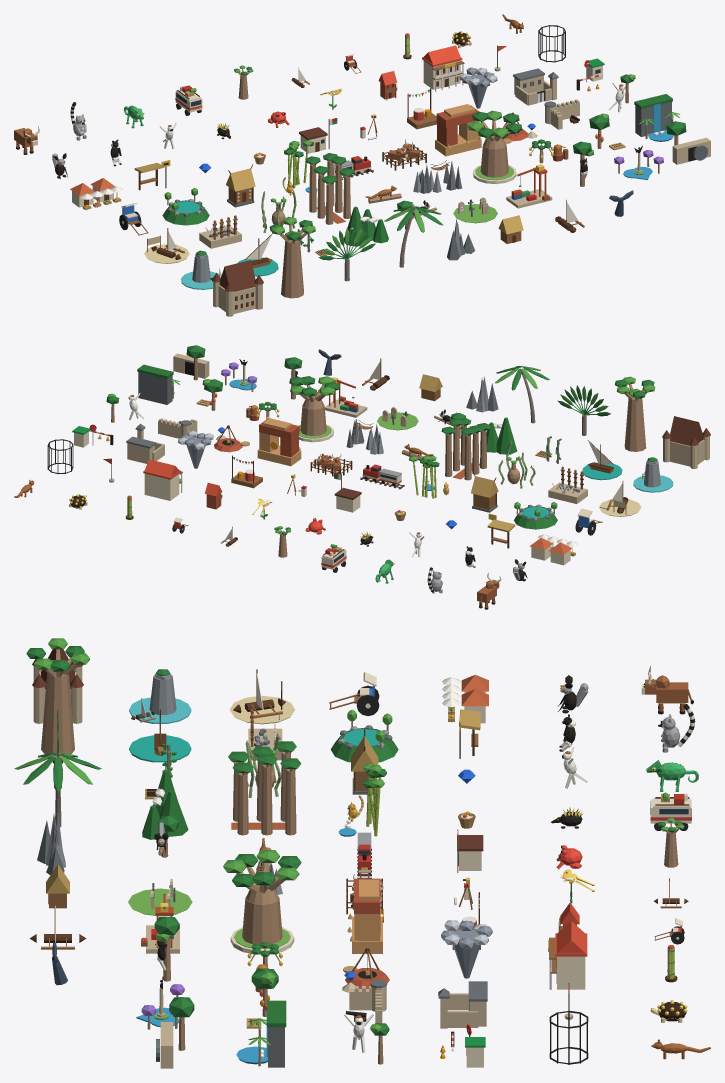
Rendered from tsena.glb.
The picture shows the model from 3 angles, top to bottom: view 1: azimuth 30°, elevation 25°; view 2: azimuth 150°, elevation 25°; view 3: azimuth 270°, elevation 25°; orthographic projection. The views are drawn at different scales.
Parts seen in each view (by area): view 1: baobab_alley, giant_baobab, rova, isalo_window, baobab, waterfall, hotel, prison, stone_gate, crater_lake, market, ravinala (+24 smaller); view 2: baobab_alley, giant_baobab, rova, isalo_window, baobab, hotel, waterfall, market, crater_lake, stone_gate, prison, ravinala (+27 smaller); view 3: giant_baobab, baobab_alley, baobab, isalo_window, hotel, waterfall, sugarloaf, prison, crater_lake, cyclone, rova, market (+28 smaller).
Part boxes in pixels (bbox=[...]): baobab_alley: bbox=[305, 153, 354, 224]; giant_baobab: bbox=[467, 110, 522, 184]; rova: bbox=[212, 260, 263, 316]; isalo_window: bbox=[435, 104, 481, 156]; baobab: bbox=[269, 216, 315, 298]; waterfall: bbox=[634, 94, 679, 141]; hotel: bbox=[422, 45, 464, 91]; prison: bbox=[513, 68, 558, 105]; stone_gate: bbox=[666, 121, 710, 164]; crater_lake: bbox=[162, 187, 209, 225]; market: bbox=[70, 178, 123, 209]; ravinala: bbox=[318, 227, 375, 281]; baobab_alley: bbox=[441, 418, 490, 480]; giant_baobab: bbox=[289, 376, 339, 442]; rova: bbox=[662, 416, 710, 468]; isalo_window: bbox=[257, 418, 301, 466]; baobab: bbox=[615, 376, 655, 451]; hotel: bbox=[143, 459, 182, 500]; waterfall: bbox=[137, 364, 180, 404]; market: bbox=[529, 534, 577, 565]; crater_lake: bbox=[514, 502, 557, 529]; stone_gate: bbox=[173, 345, 209, 380]; prison: bbox=[126, 423, 164, 463]; ravinala: bbox=[557, 385, 610, 435]; giant_baobab: bbox=[223, 850, 301, 954]; baobab_alley: bbox=[228, 741, 301, 835]; baobab: bbox=[26, 638, 89, 756]; isalo_window: bbox=[347, 878, 383, 953]; hotel: bbox=[548, 921, 587, 989]; waterfall: bbox=[236, 1000, 286, 1067]; sugarloaf: bbox=[129, 669, 191, 723]; prison: bbox=[438, 981, 487, 1028]; crater_lake: bbox=[330, 709, 398, 762]; cyclone: bbox=[441, 920, 492, 978]; rova: bbox=[32, 649, 83, 723]; market: bbox=[442, 674, 488, 723].
Bounding box in the file's own units: 15.6 × 2.02 × 12.28.
